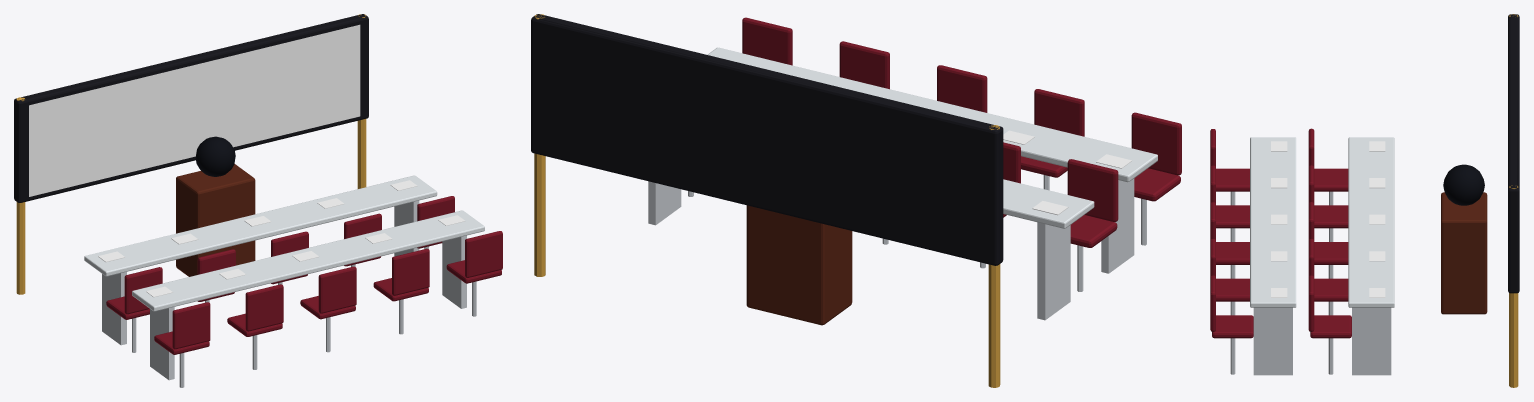
File: bingo-hall.glb
The picture shows the model from 3 angles, left to right: view 1: azimuth 30°, elevation 25°; view 2: azimuth 150°, elevation 25°; view 3: azimuth 270°, elevation 25°; orthographic projection. The views are drawn at different scales.
Parts seen in each view (by area): view 1: bingo-hall_lod0; view 2: bingo-hall_lod0; view 3: bingo-hall_lod0.
Boxes of the visible parts, bbox=[...] form: bingo-hall_lod0: bbox=[14, 14, 502, 387]; bingo-hall_lod0: bbox=[531, 14, 1181, 387]; bingo-hall_lod0: bbox=[1210, 14, 1519, 387].
Size of what is drawn, in the model's own units: 3.6 by 1.9 by 2.67.
